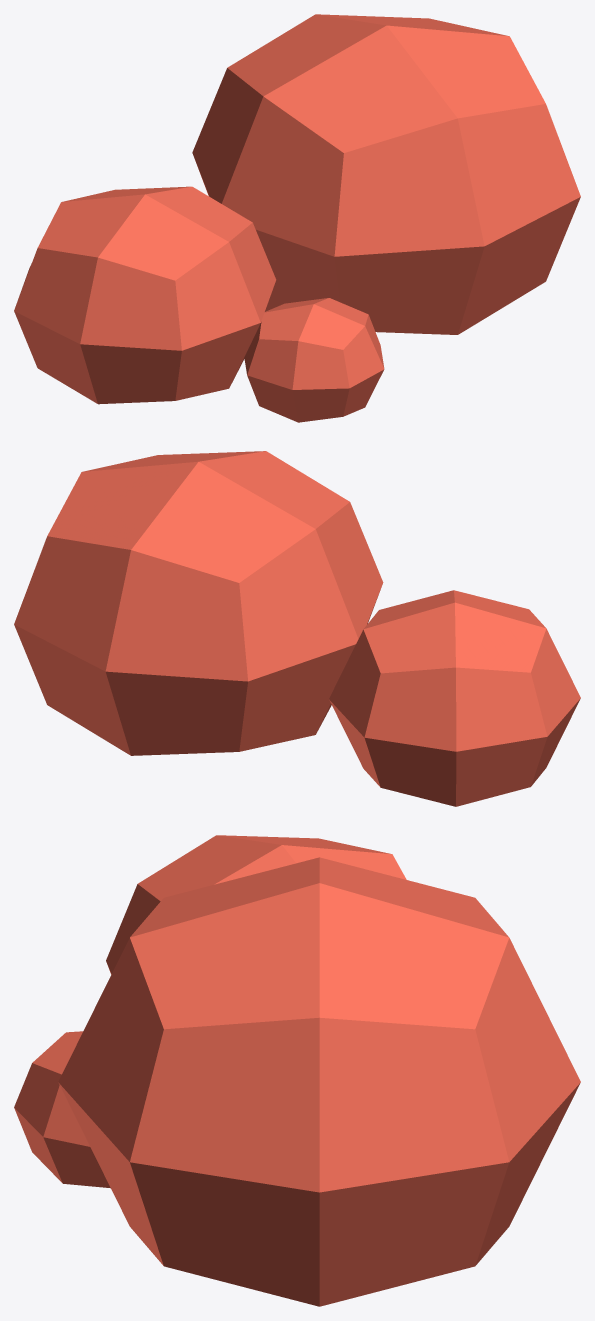
The model's file is Flint1.fbx.
3 renders of one model, top to bottom at view 1: azimuth 30°, elevation 25°; view 2: azimuth 150°, elevation 25°; view 3: azimuth 270°, elevation 25°, orthographic. The views are drawn at different scales.
Parts seen in each view (by area): view 1: shard_of_ore_1_Cube.027; view 2: shard_of_ore_1_Cube.027; view 3: shard_of_ore_1_Cube.027.
Part boxes in pixels (x1,y1,x2,y2): shard_of_ore_1_Cube.027: (14, 14, 580, 422); shard_of_ore_1_Cube.027: (14, 451, 580, 806); shard_of_ore_1_Cube.027: (14, 835, 580, 1306).
Bounding box in the file's own units: 0.3459 × 0.1828 × 0.236.
